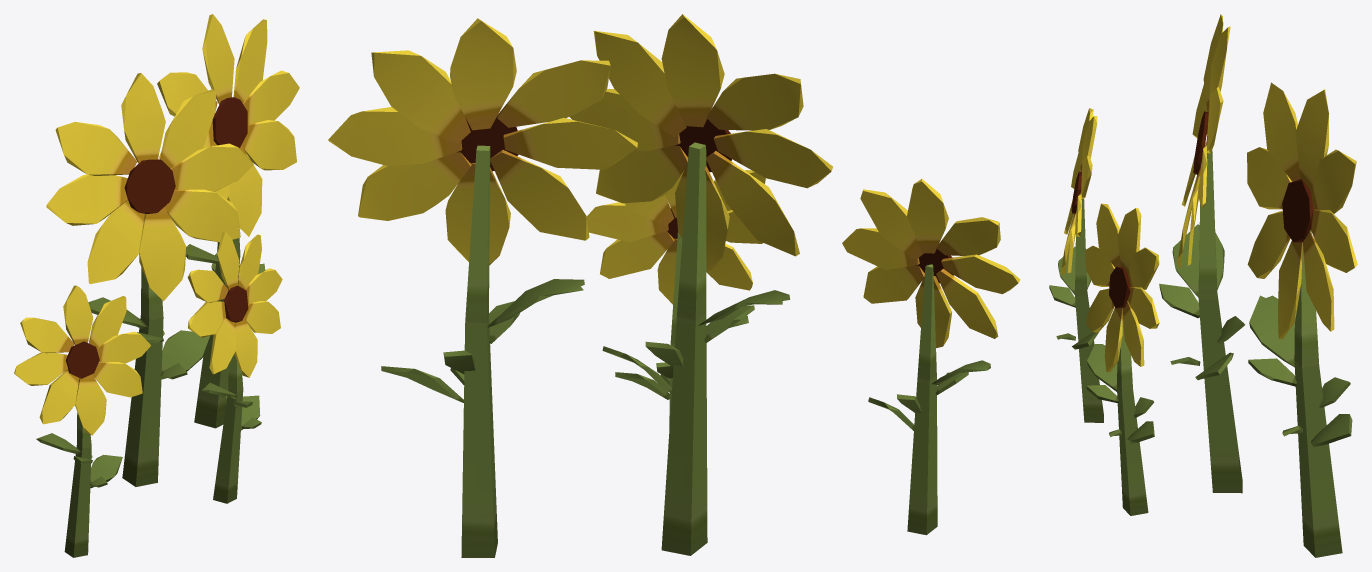
The model's file is GiraSol.glb.
3 views of the same model, side by side, from view 1: azimuth 30°, elevation 25°; view 2: azimuth 150°, elevation 25°; view 3: azimuth 270°, elevation 25° (orthographic). The views are drawn at different scales.
Parts seen in each view (by area): view 1: GiraSol; view 2: GiraSol; view 3: GiraSol.
Boxes of the visible parts, box(x1,y1,x2,y2) form: GiraSol: box(14, 14, 299, 557); GiraSol: box(328, 14, 1020, 557); GiraSol: box(1049, 14, 1357, 557).
Size of the model in its own units: 2.88 by 2.76 by 1.67.
Materials: 1 (1 with a texture image).
